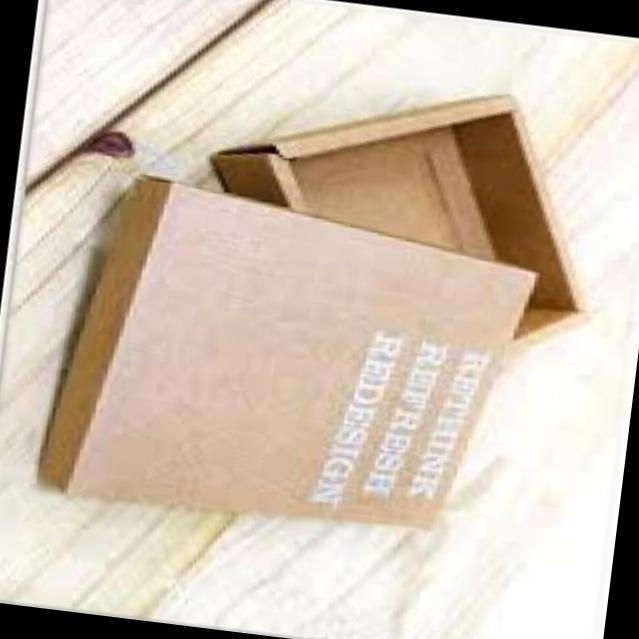cardboard paper: (39, 177, 535, 526), (209, 91, 592, 362)
